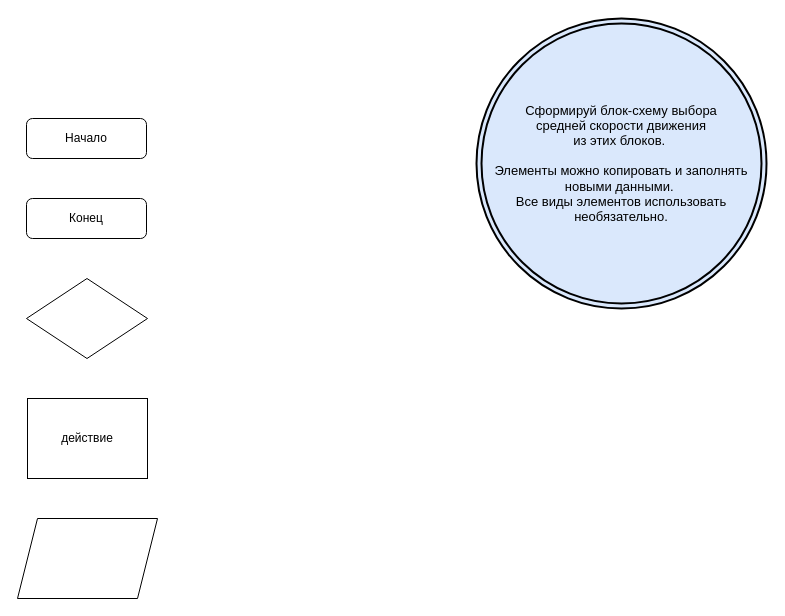
Some shapes in this 785 by 616 pixel diagram are drawn without their labels. Here are the shapes that lost their labels. From the top down, the centre of each, then its label:
At (87,318): "условие".
At (87,558): "ввод данных".
